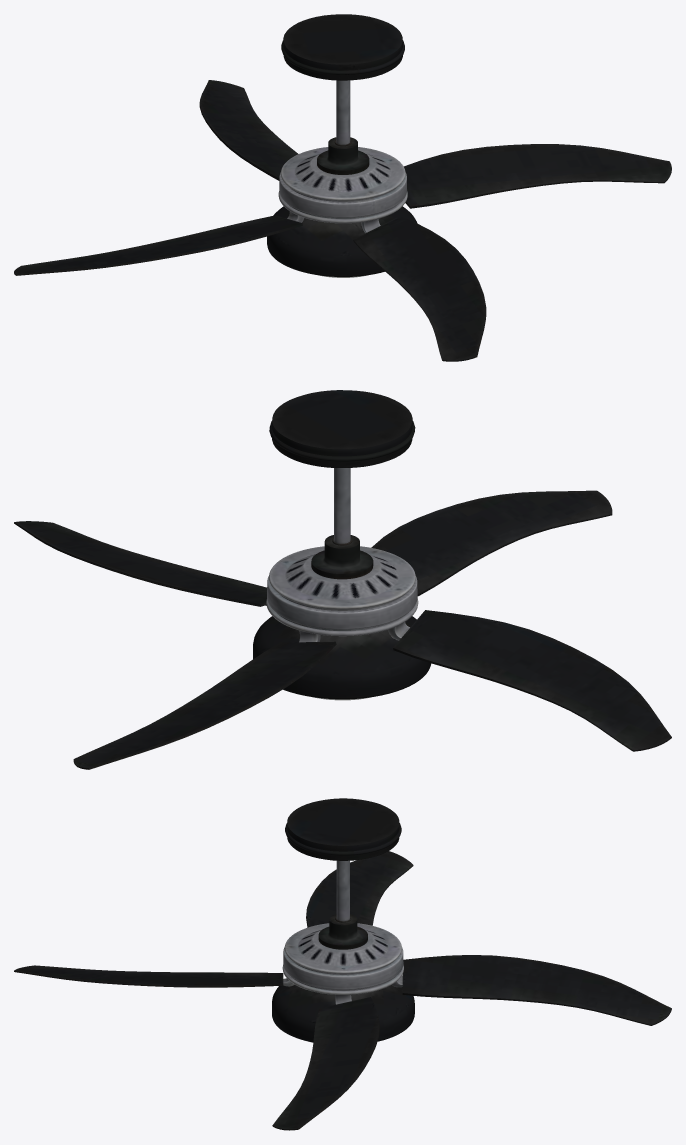
The picture shows the model from 3 angles, top to bottom: view 1: azimuth 30°, elevation 25°; view 2: azimuth 150°, elevation 25°; view 3: azimuth 270°, elevation 25°; orthographic projection. The views are drawn at different scales.
Visible parts, largest first — view 1: ceiling_fan_blades, ceiling_fan; view 2: ceiling_fan_blades, ceiling_fan; view 3: ceiling_fan_blades, ceiling_fan.
Boxes of the visible parts, left/top/right/bottom form: ceiling_fan_blades: left=14, top=80, right=671, bottom=361; ceiling_fan: left=267, top=14, right=417, bottom=277; ceiling_fan_blades: left=14, top=490, right=671, bottom=769; ceiling_fan: left=253, top=390, right=431, bottom=700; ceiling_fan_blades: left=14, top=851, right=671, bottom=1130; ceiling_fan: left=272, top=798, right=414, bottom=1042.
Size of the model in its own units: 1.46 by 0.5163 by 1.46.
1 material, 1 textured.
